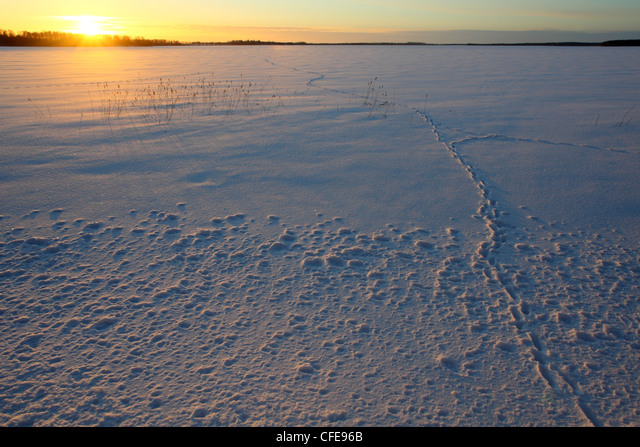fox: (537, 362, 554, 387), (528, 331, 547, 353), (507, 305, 524, 325)
